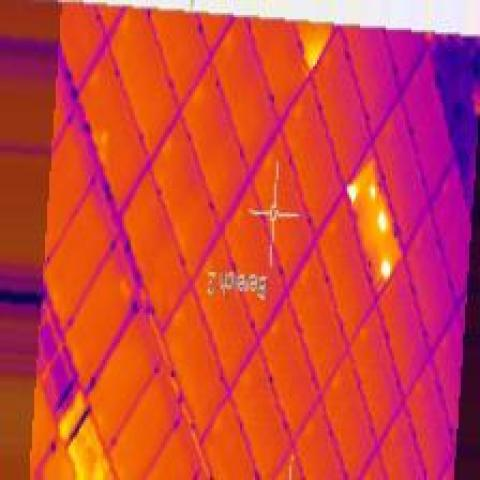fault: (302, 43, 326, 71), (341, 180, 362, 208), (375, 253, 392, 285), (373, 206, 390, 236), (366, 180, 382, 204)
